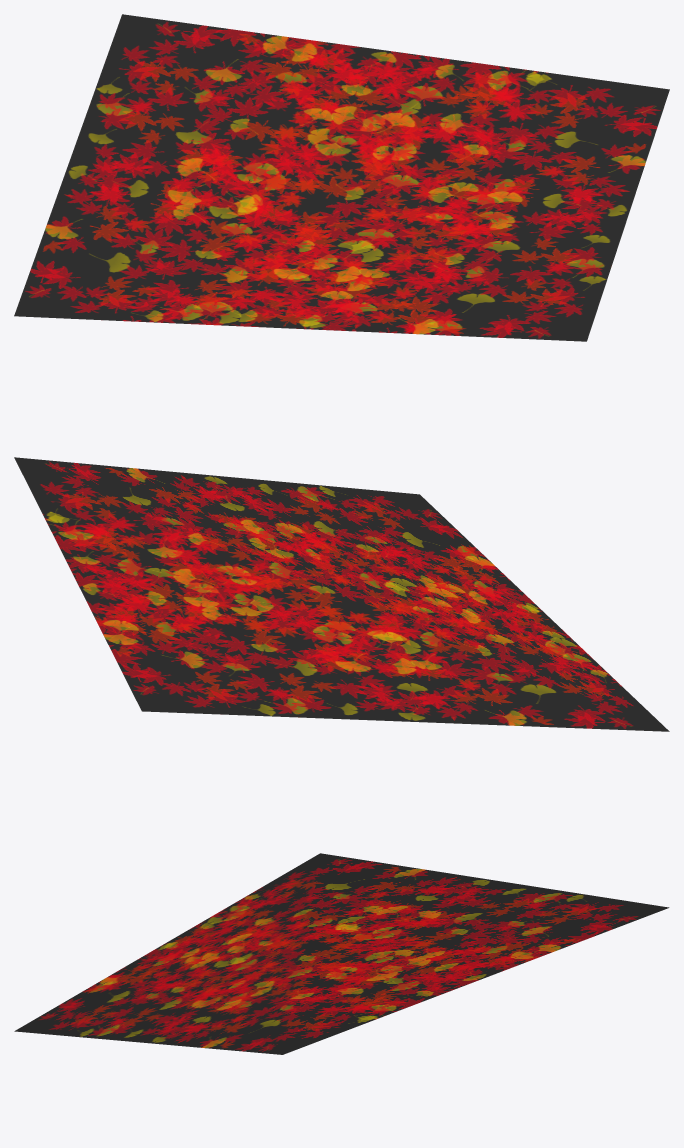
The model's file is CourseAki_CurveFloor_3_27.fbx.
The picture shows the model from 3 angles, top to bottom: view 1: azimuth 30°, elevation 25°; view 2: azimuth 150°, elevation 25°; view 3: azimuth 270°, elevation 25°; orthographic projection. The views are drawn at different scales.
Parts seen in each view (by area): view 1: polySurface476; view 2: polySurface476; view 3: polySurface476.
Boxes of the visible parts, x1,y1,x2,y2 form: polySurface476: [14, 14, 669, 341]; polySurface476: [14, 457, 669, 731]; polySurface476: [14, 853, 669, 1054].
Size of the model in its own units: 7.64 by 2 by 7.55.
Materials: 1 (1 with a texture image).
